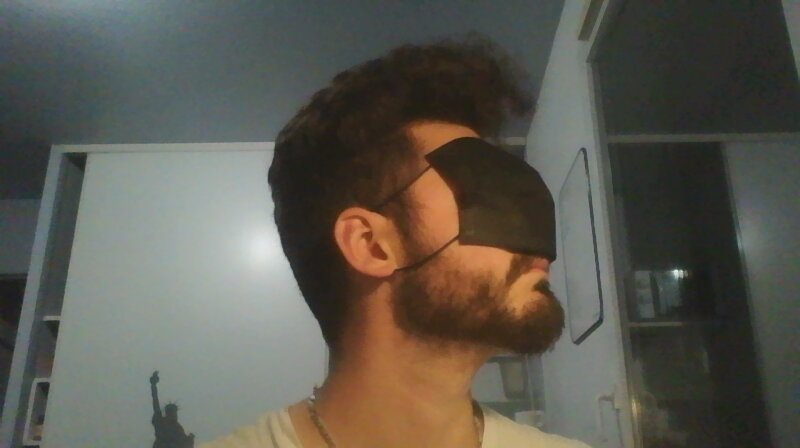with_incorrect_mask: (392, 115, 576, 358)
